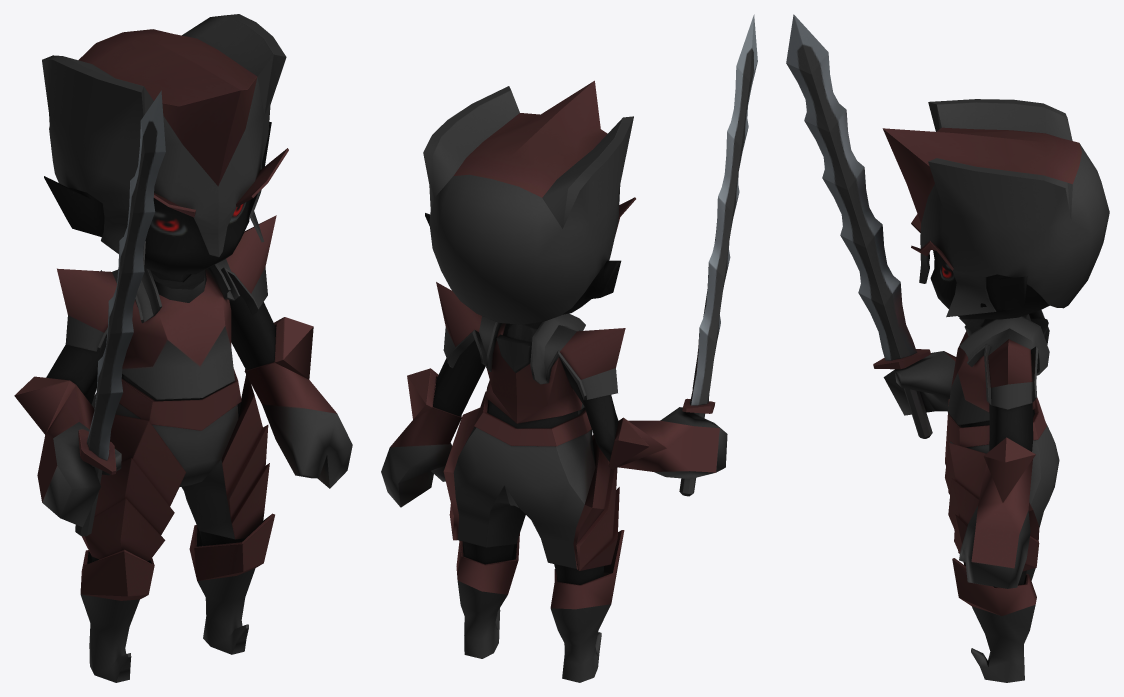
File: Boss_Golem.fbx
The picture shows the model from 3 angles, left to right: view 1: azimuth 30°, elevation 25°; view 2: azimuth 150°, elevation 25°; view 3: azimuth 270°, elevation 25°; orthographic projection. The views are drawn at different scales.
Parts seen in each view (by area): view 1: BossGolem_Export; view 2: BossGolem_Export; view 3: BossGolem_Export.
Boxes of the visible parts, bbox=[...] form: BossGolem_Export: bbox=[14, 14, 352, 682]; BossGolem_Export: bbox=[381, 14, 757, 682]; BossGolem_Export: bbox=[786, 14, 1109, 682].
Size of the model in its own units: 143 by 278 by 139.
